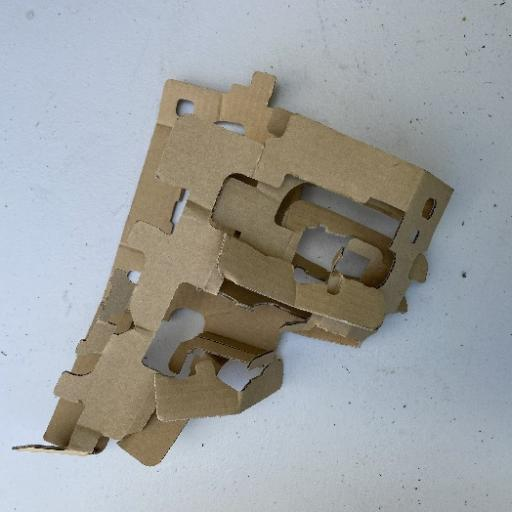Cardboard: (12, 69, 456, 467)
